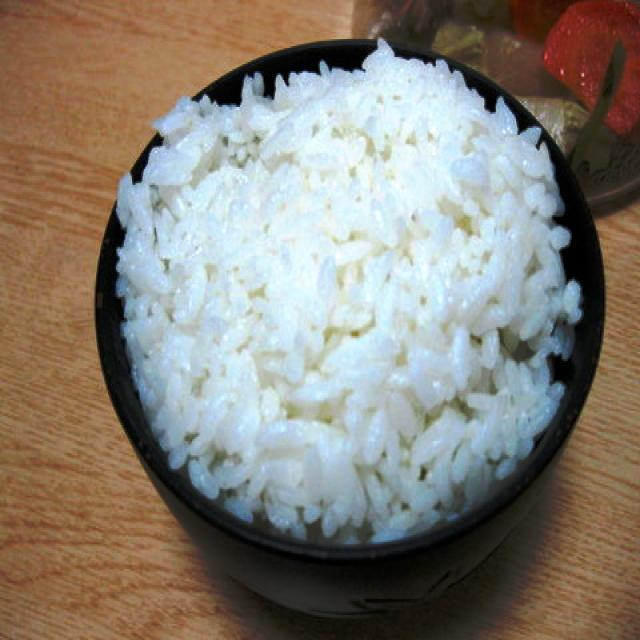rice: (113, 36, 584, 542)
